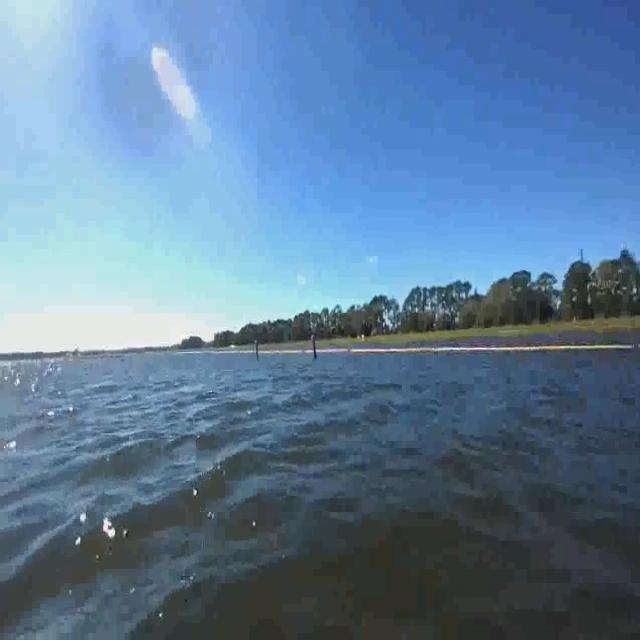green-column-buoy: (253, 339, 260, 359)
red-column-buoy: (311, 335, 318, 360)
